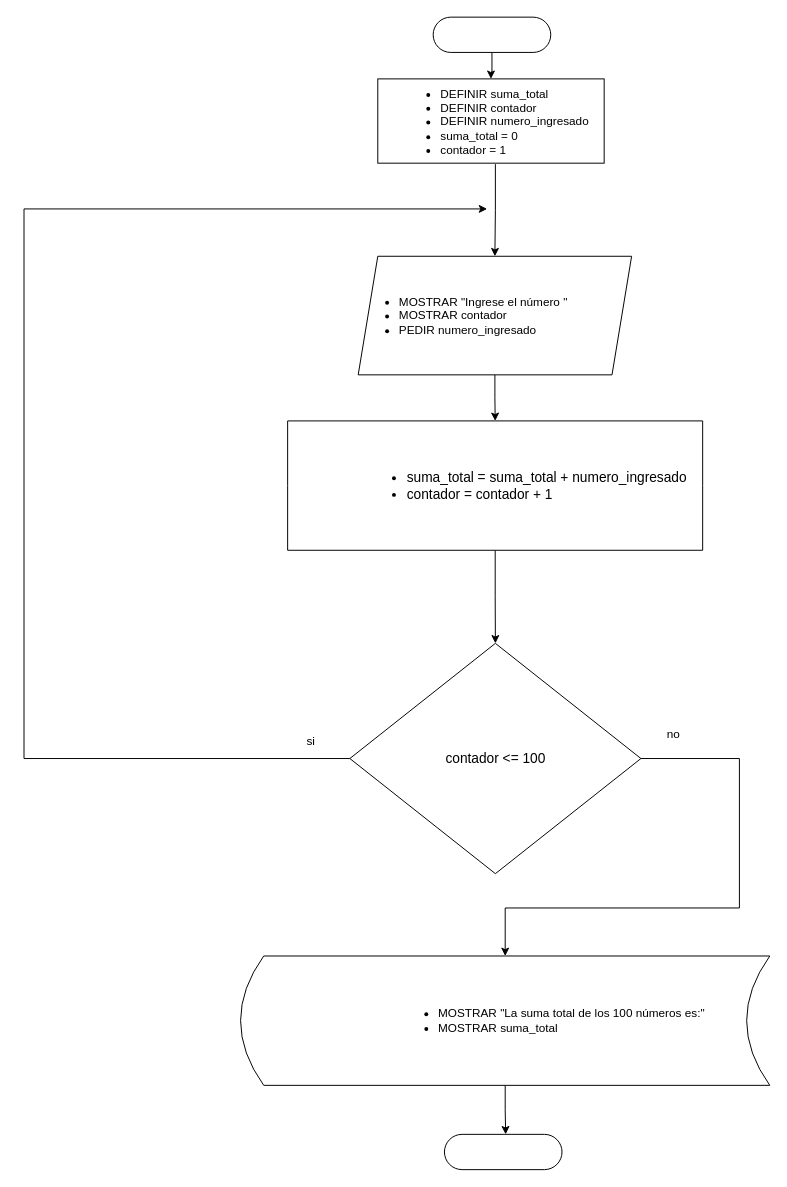
This 787x1187 diagram has some shape labels left out. Each missing label, with the centre of its shape:
"Fin" goes at (x=502, y=1151).
"Inicio" goes at (x=491, y=34).
